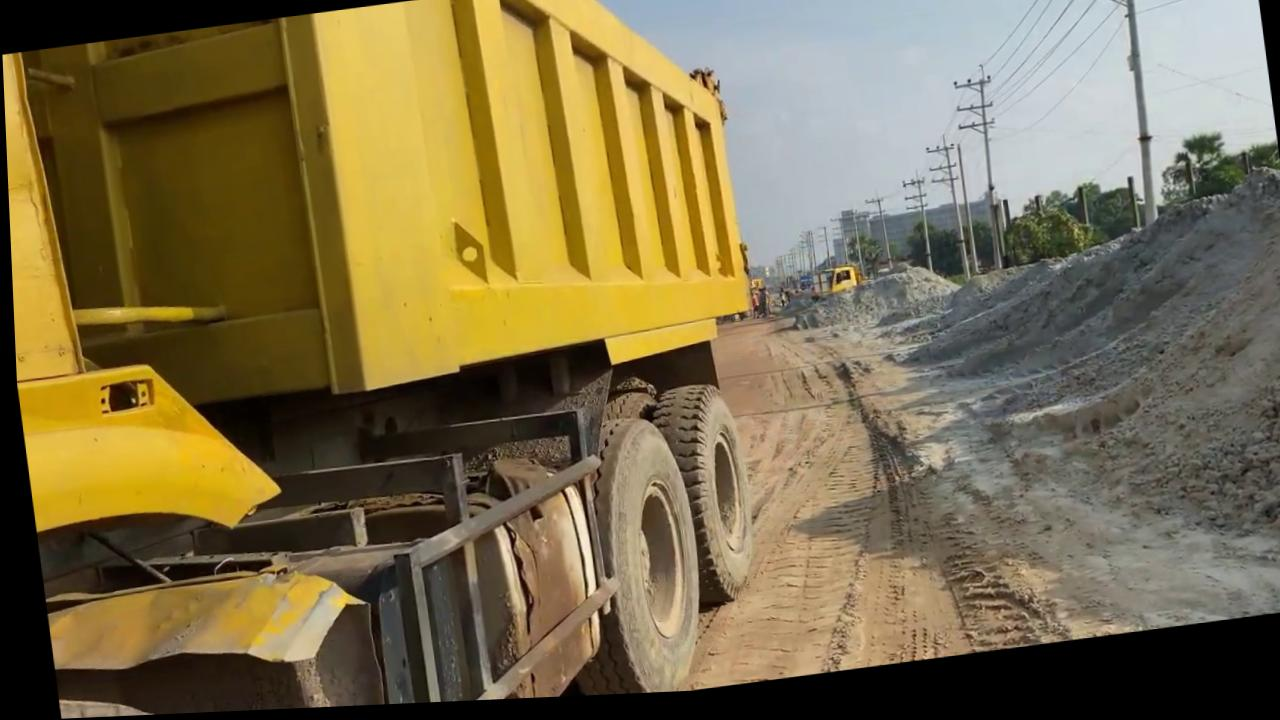Garbage: (777, 255, 1280, 678)
Muddy road: (628, 299, 970, 697)
Pole: (1068, 0, 1178, 242), (948, 72, 1013, 282)
Traffic-sign: (994, 203, 1098, 276)
Tree: (0, 0, 798, 720), (822, 270, 861, 302)
